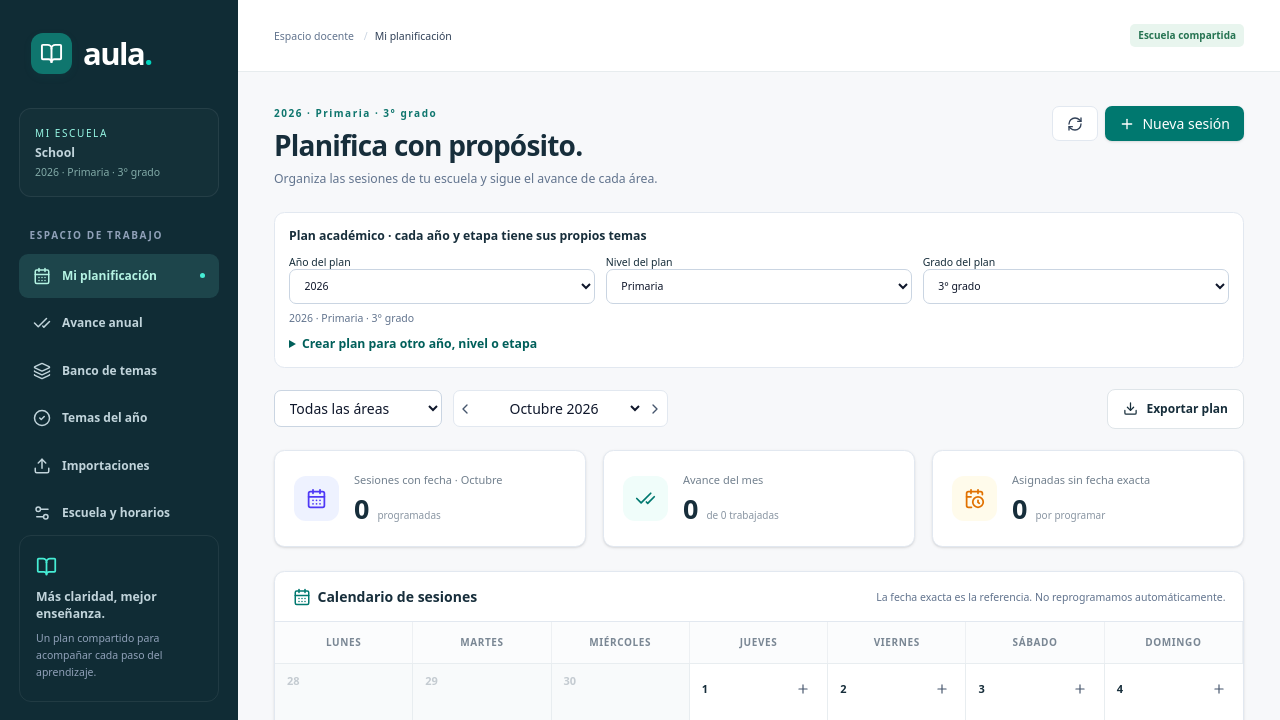
Test: loads only explicit contexts and never displays a late previous-year response
The width and height of the screenshot is (1280, 720).
Click the button named "Recargar planificación" at (1075, 124), box [1052, 106, 1098, 141]
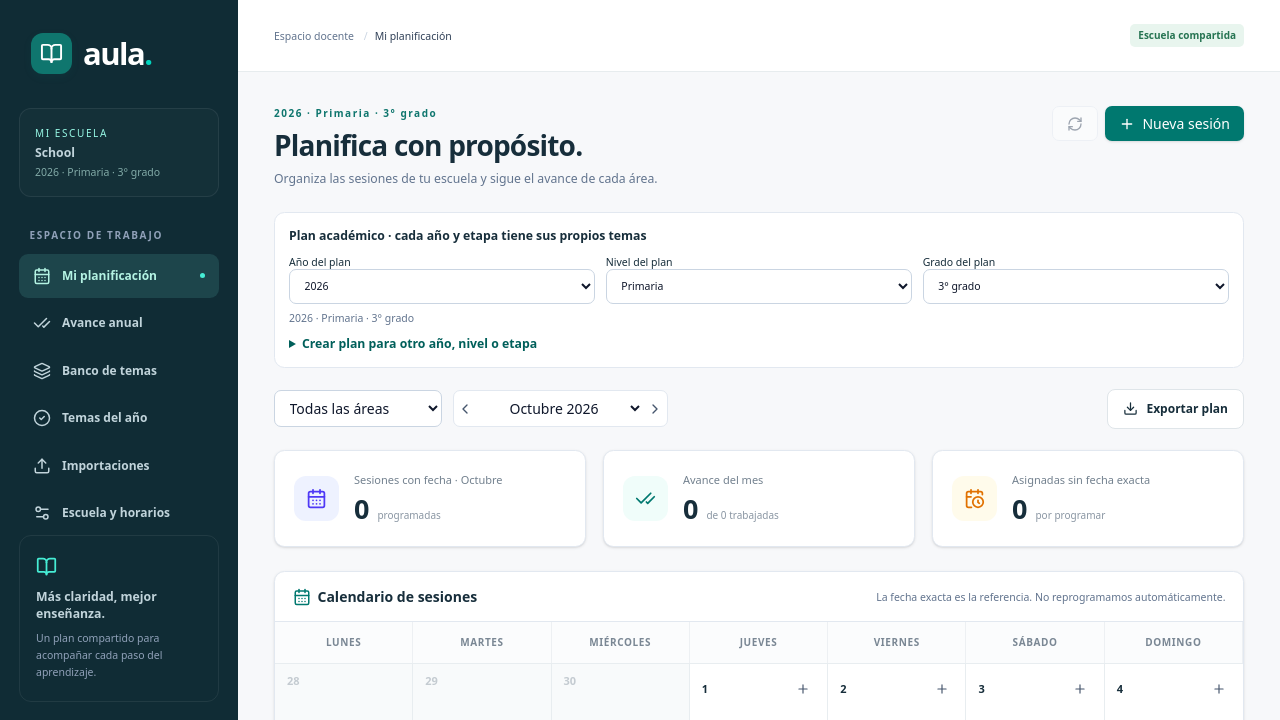
Select "2027" in the dropdown labelled "Año del plan" at (442, 286), box [289, 269, 595, 304]
(page scrolled)
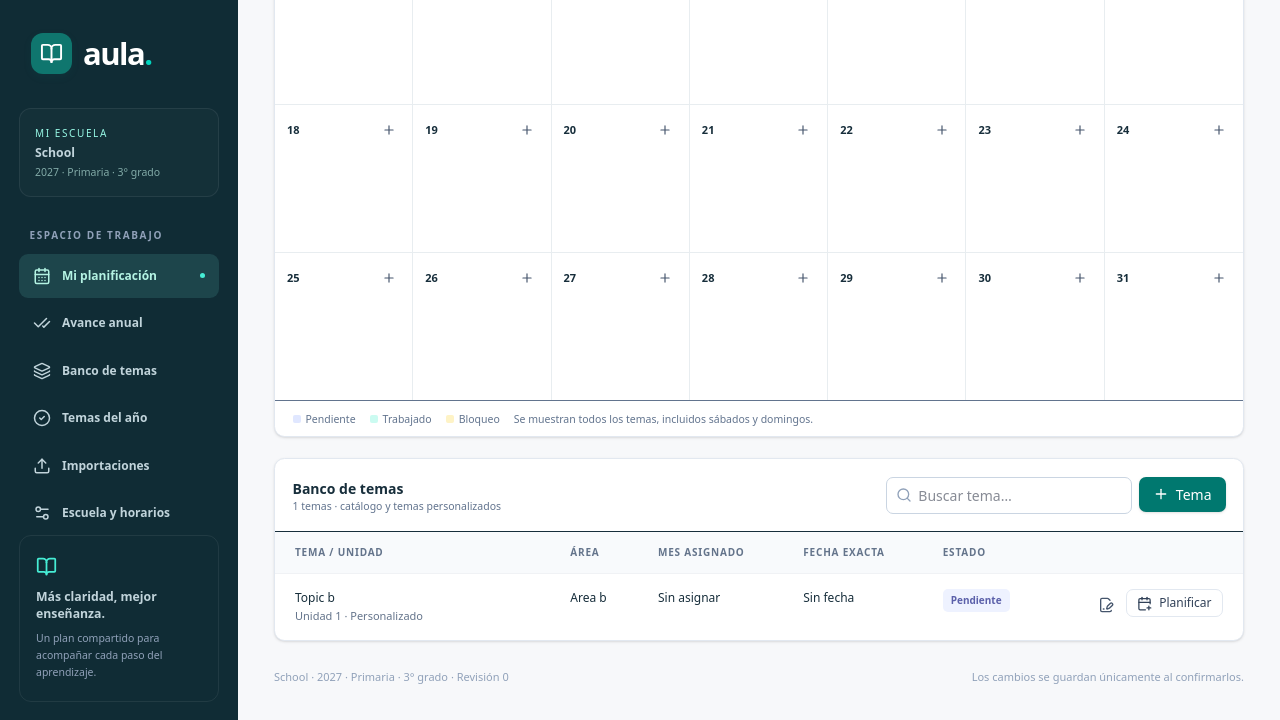
Check: the text "Topic b" is shown, box [295, 590, 335, 606]
